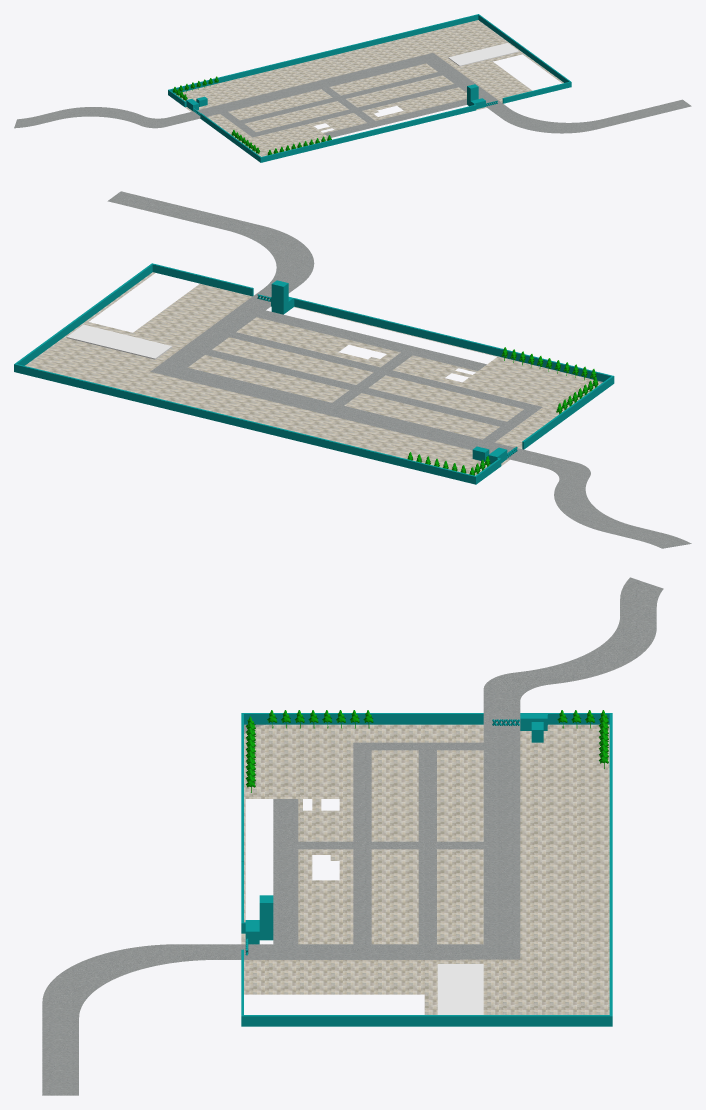
3 renders of one model, top to bottom at view 1: azimuth 30°, elevation 25°; view 2: azimuth 150°, elevation 25°; view 3: azimuth 270°, elevation 25°, orthographic. The views are drawn at different scales.
Visible parts, largest first — view 1: Group_86, Group_105, Group_48; view 2: Group_86, Group_105, Group_48, Group_49; view 3: Group_86, Group_105, Group_48.
Part boxes in pixels (<box>): Group_86: <box>175,20,563,156</box>; Group_105: <box>14,99,691,133</box>; Group_48: <box>448,43,519,66</box>; Group_86: <box>25,272,602,475</box>; Group_105: <box>107,191,691,548</box>; Group_48: <box>66,324,172,359</box>; Group_49: <box>271,280,288,314</box>; Group_86: <box>241,723,609,1014</box>; Group_105: <box>42,577,663,1095</box>; Group_48: <box>437,964,483,1014</box>.
Bounding box in the file's own units: 268 × 9 × 136.
5 materials, 2 textured.
